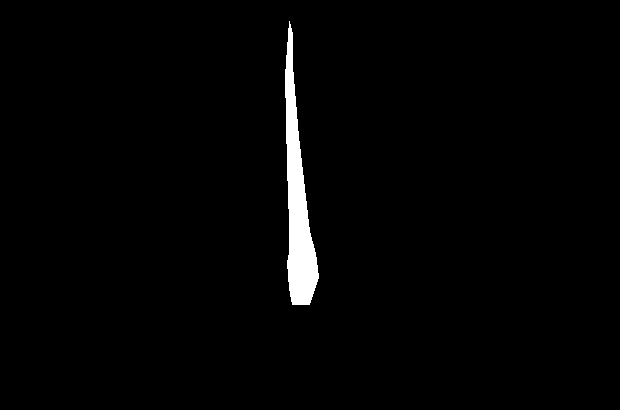type5: (283, 18, 323, 310)
